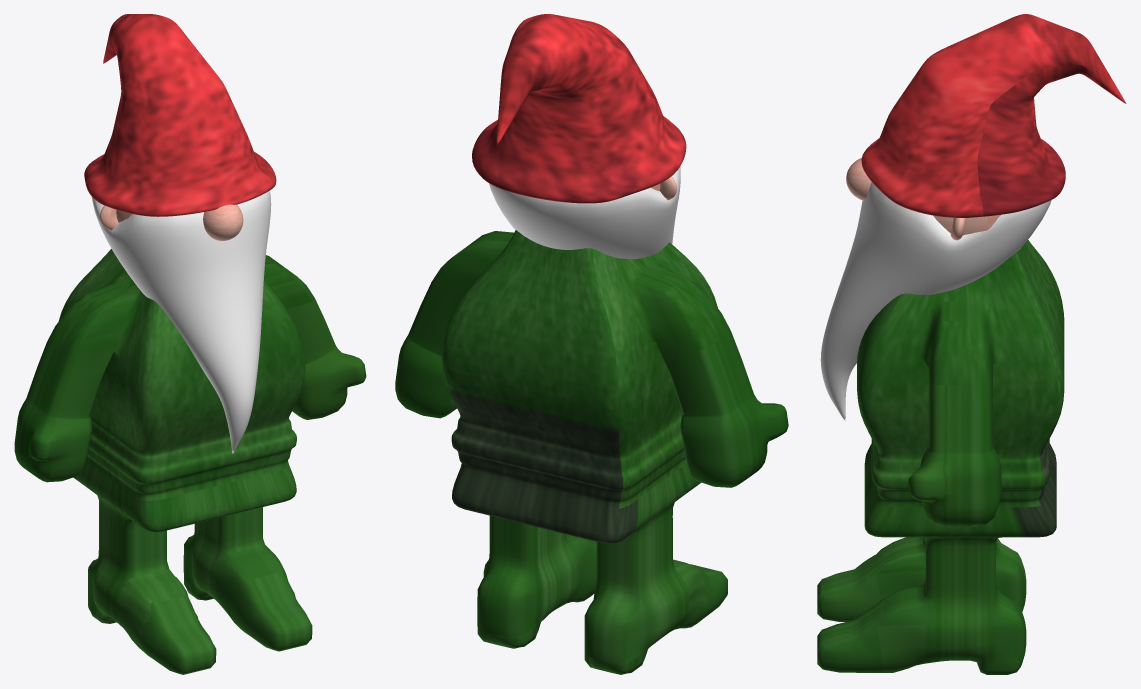
File: gnomerig1210.fbx
3 renders of one model, left to right at view 1: azimuth 30°, elevation 25°; view 2: azimuth 150°, elevation 25°; view 3: azimuth 270°, elevation 25°, orthographic. The views are drawn at different scales.
Visible parts, largest first — view 1: gnome1210; view 2: gnome1210; view 3: gnome1210.
Boxes of the visible parts, left/top/right/bottom form: gnome1210: left=14, top=14, right=366, bottom=674; gnome1210: left=395, top=14, right=788, bottom=674; gnome1210: left=817, top=14, right=1126, bottom=674.
Size of the model in its own units: 1.63 by 2.71 by 1.21.
